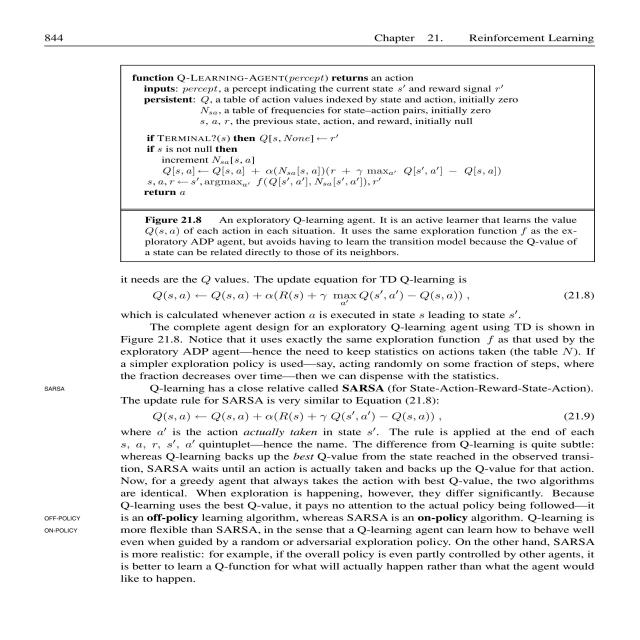diagram: (88, 56, 574, 260)
